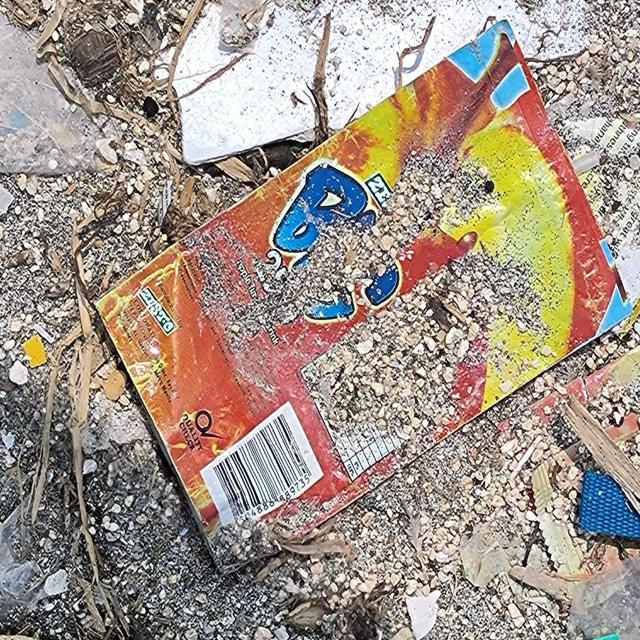plastic_waste: (90, 18, 636, 581)
